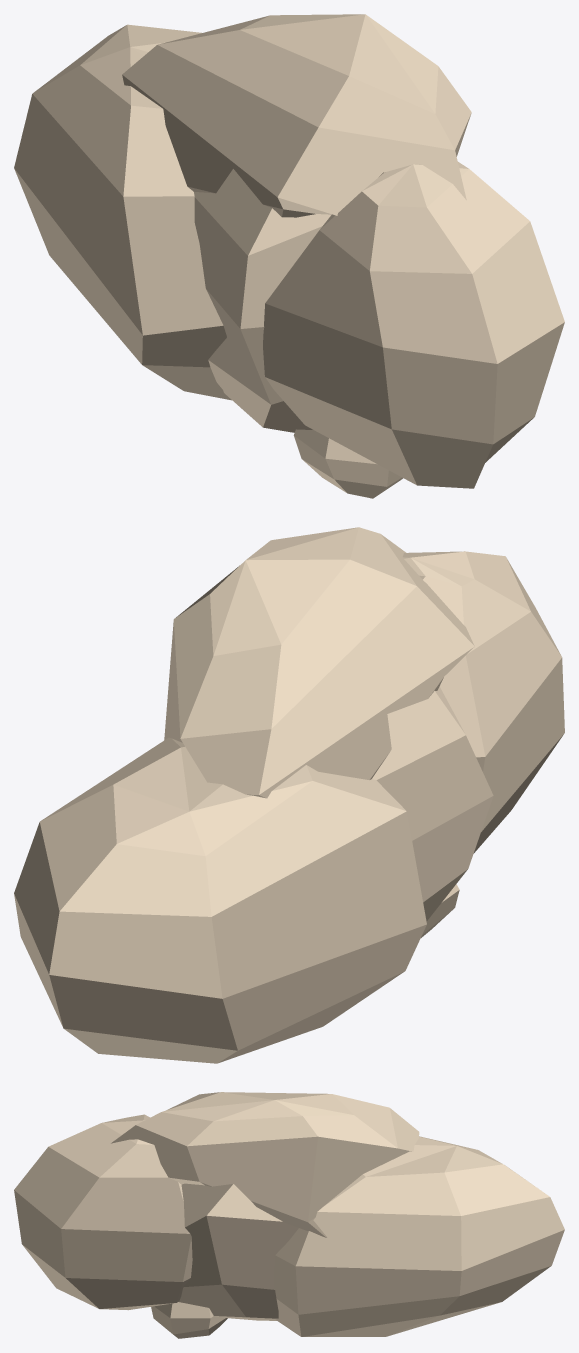
File: Cloud4.fbx
The picture shows the model from 3 angles, top to bottom: view 1: azimuth 30°, elevation 25°; view 2: azimuth 150°, elevation 25°; view 3: azimuth 270°, elevation 25°; orthographic projection. The views are drawn at different scales.
Visible parts, largest first — view 1: Cloud4; view 2: Cloud4; view 3: Cloud4.
Part boxes in pixels (<box>): Cloud4: <box>14,14,564,498</box>; Cloud4: <box>14,527,564,1063</box>; Cloud4: <box>14,1092,564,1338</box>.
Bounding box in the file's own units: 176 × 247 × 482.
